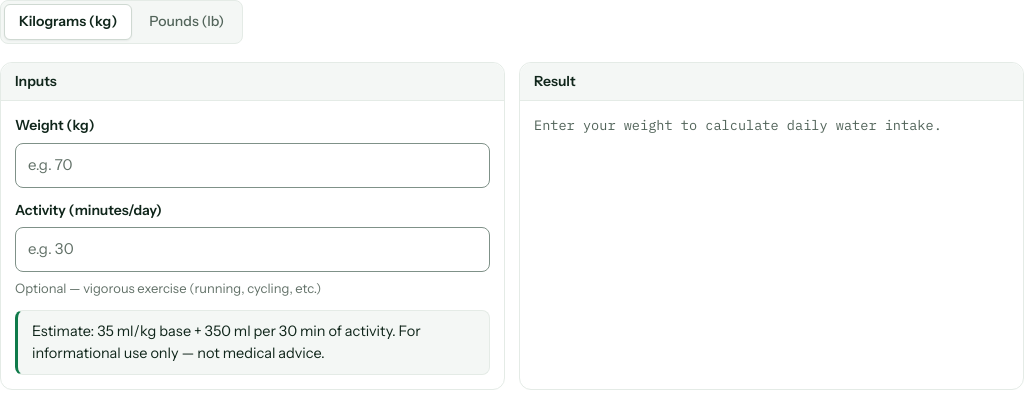
WaterIntake › 70 kg, 0 activity → 2450 ml
Step 1. Type "70" into the number field with placeholder "e.g. 70" → (252, 165), box [15, 143, 490, 188]
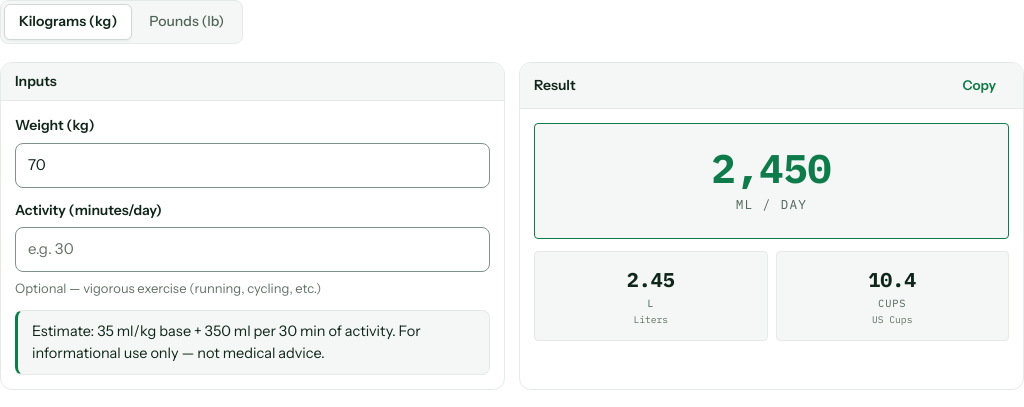
Now the text "2,450" is shown, box [712, 148, 832, 188]
